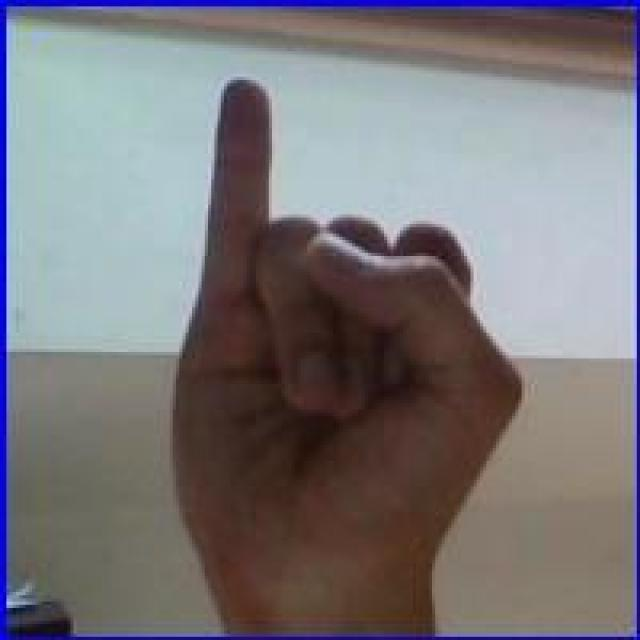I: (170, 70, 534, 608)
